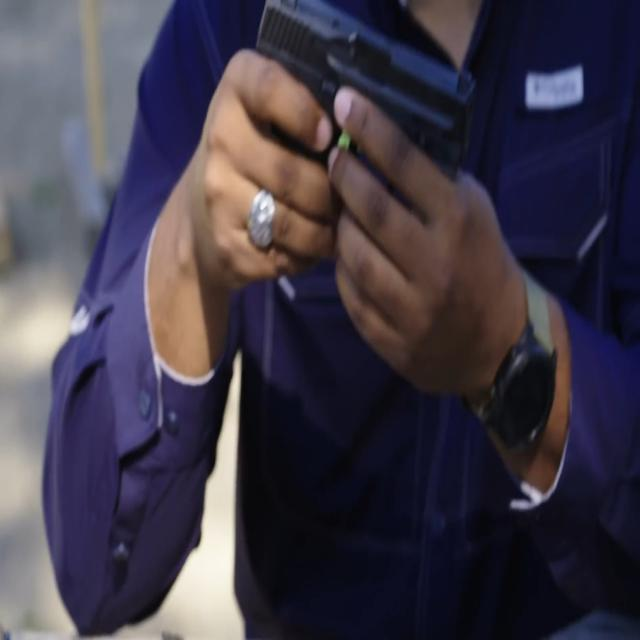handgun: (236, 4, 509, 257)
